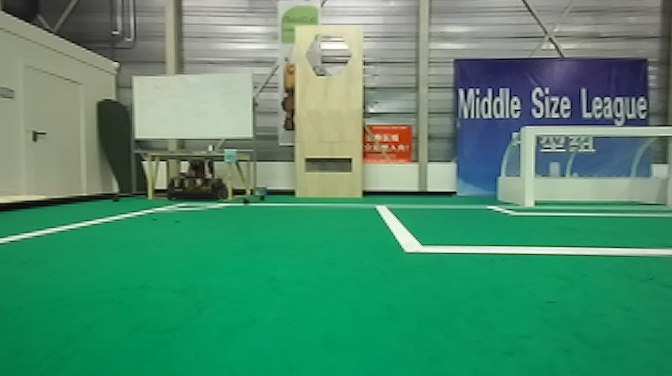goalpost: (519, 123, 540, 216)
